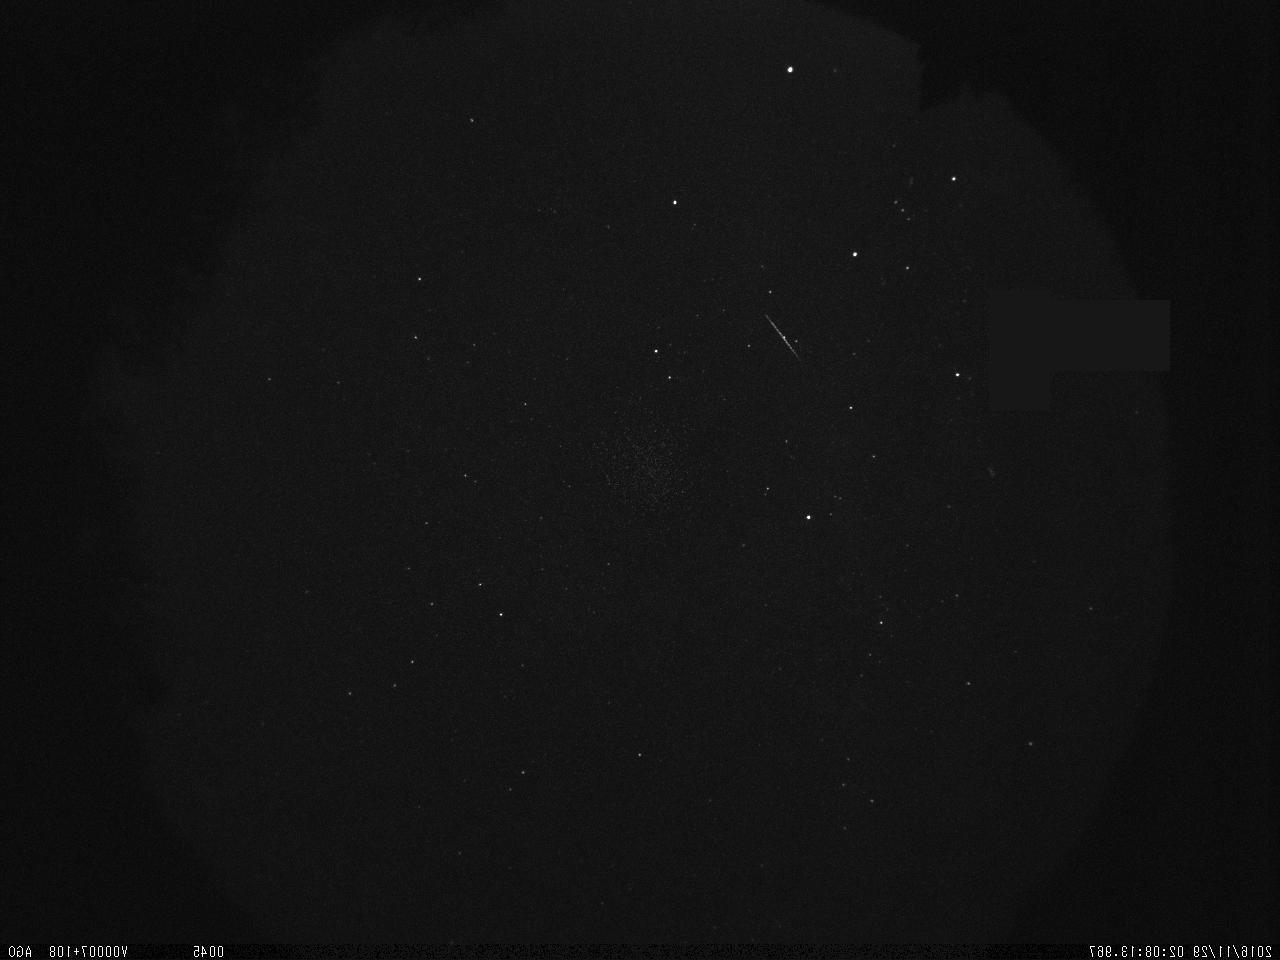meteor: (752, 306, 814, 366)
